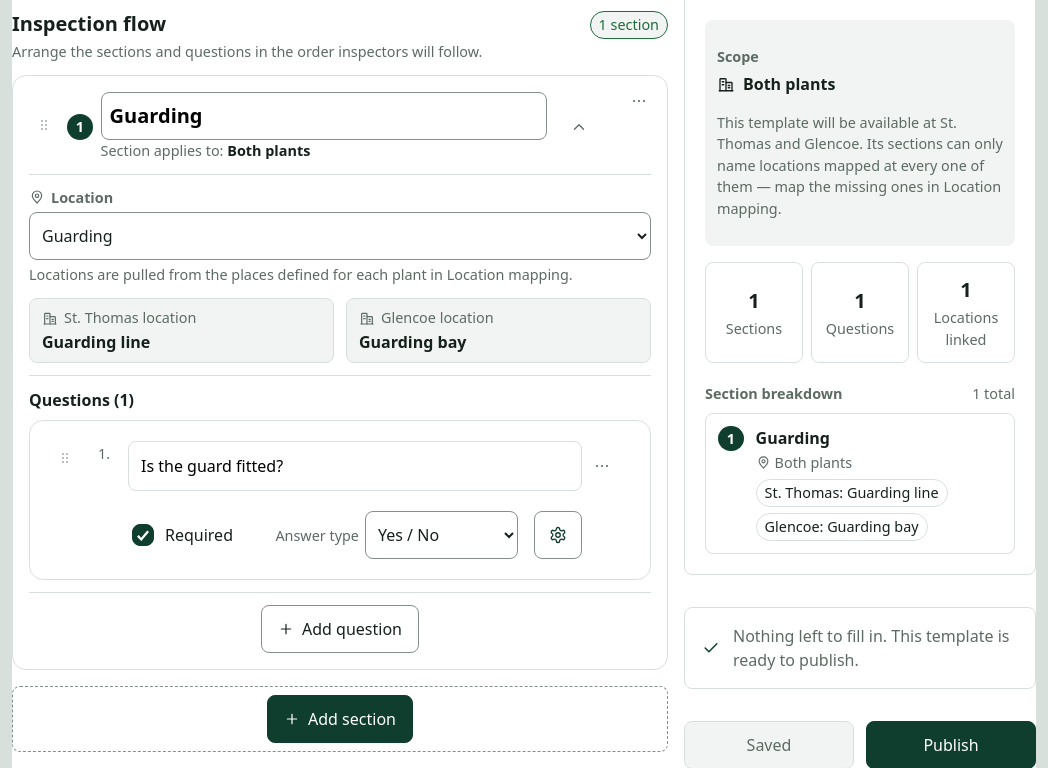
Scenario: escribir la plantilla › agrega una sección y una pregunta
(page scrolled)
Click the button "Add section": (340, 720) [267, 696, 413, 744]
(page scrolled)
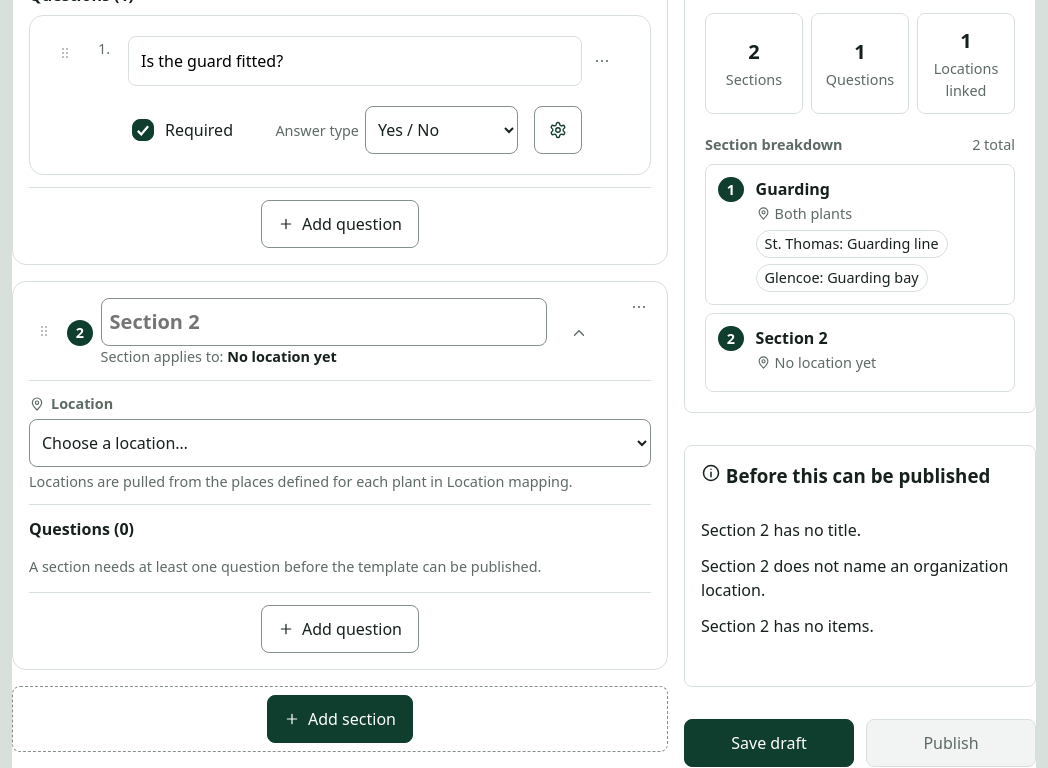
Check: the number of fields labelled "Location" is 2
Select "Storage" in the dropdown labelled "Location": (340, 443) [29, 419, 651, 467]
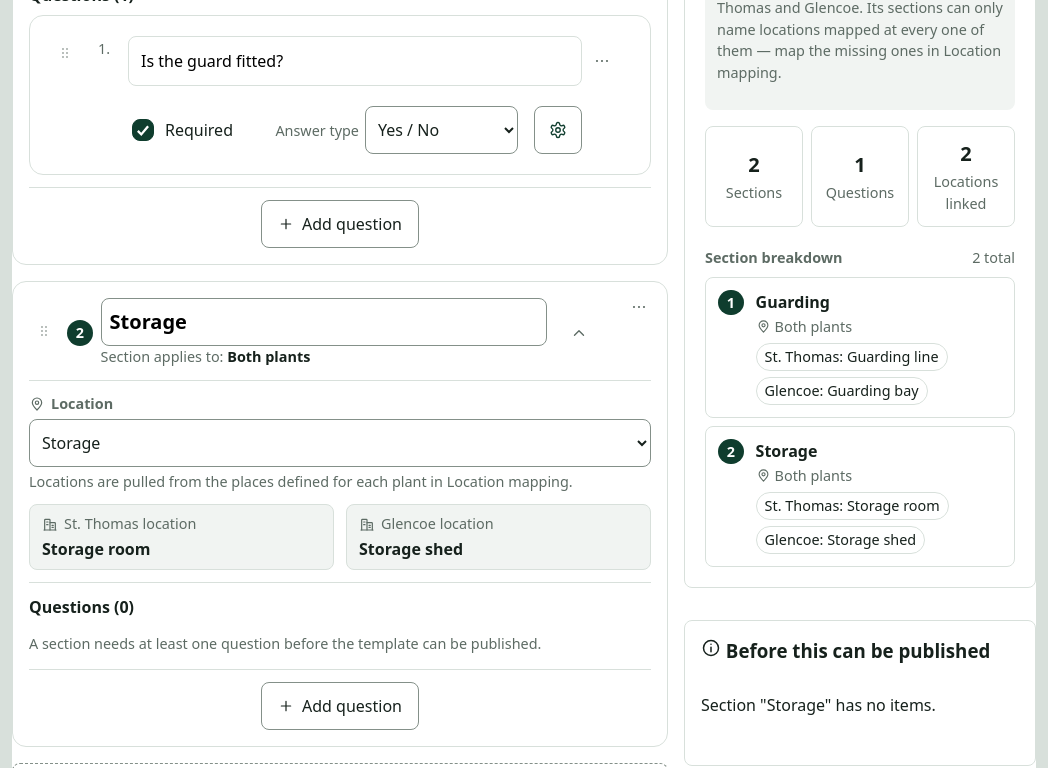
Click the 2nd button "Add question": (340, 706) [261, 682, 419, 730]
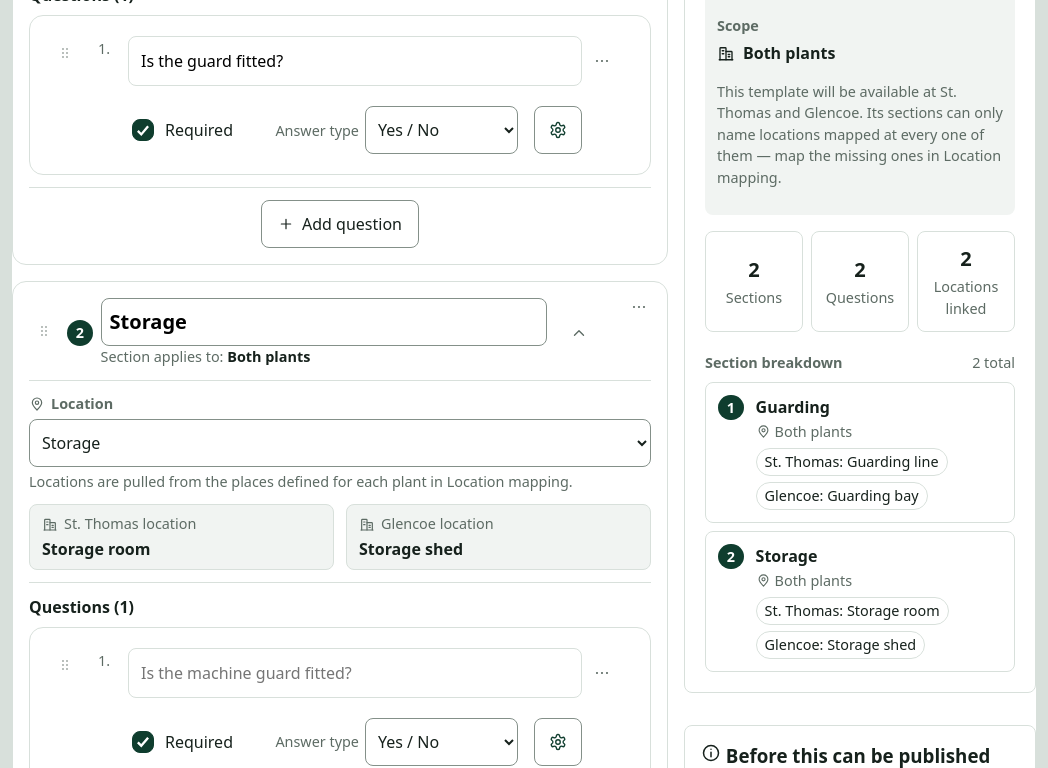
Check: the number of fields named "Question " is 2, box [128, 36, 582, 86]; [128, 648, 582, 698]
